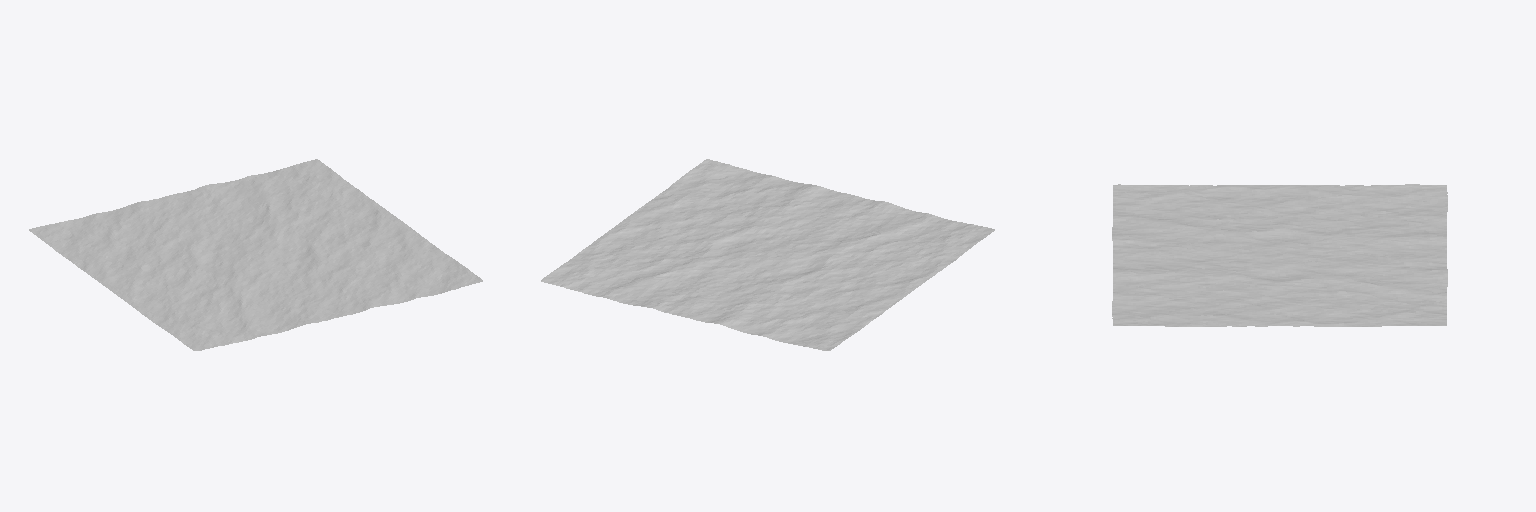
The model's file is sea_000040.obj.
3 views of the same model, side by side, from view 1: azimuth 30°, elevation 25°; view 2: azimuth 150°, elevation 25°; view 3: azimuth 270°, elevation 25° (orthographic).
Parts seen in each view (by area): view 1: Plane; view 2: Plane; view 3: Plane.
Part boxes in pixels (bbox=[...]): Plane: bbox=[29, 159, 482, 350]; Plane: bbox=[541, 159, 994, 350]; Plane: bbox=[1112, 184, 1447, 326].
Bounding box in the file's own units: 201 × 1.9 × 201.